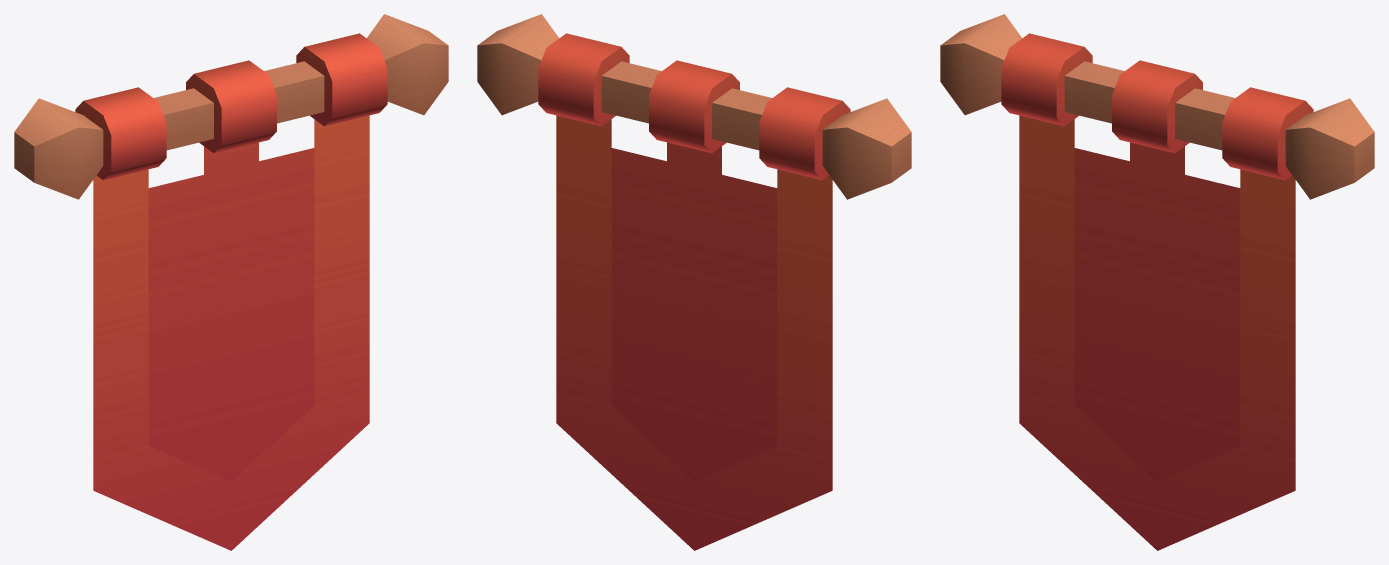
Rendered from banner.glb.
3 renders of one model, left to right at view 1: azimuth 30°, elevation 25°; view 2: azimuth 150°, elevation 25°; view 3: azimuth 330°, elevation 25°, orthographic.
Parts seen in each view (by area): view 1: banner; view 2: banner; view 3: banner.
Part boxes in pixels (bbox=[...]): banner: bbox=[14, 14, 448, 550]; banner: bbox=[477, 14, 911, 550]; banner: bbox=[940, 14, 1374, 550].
Bounding box in the file's own units: 0.6 × 0.6644 × 0.1.
1 material, 1 textured.
